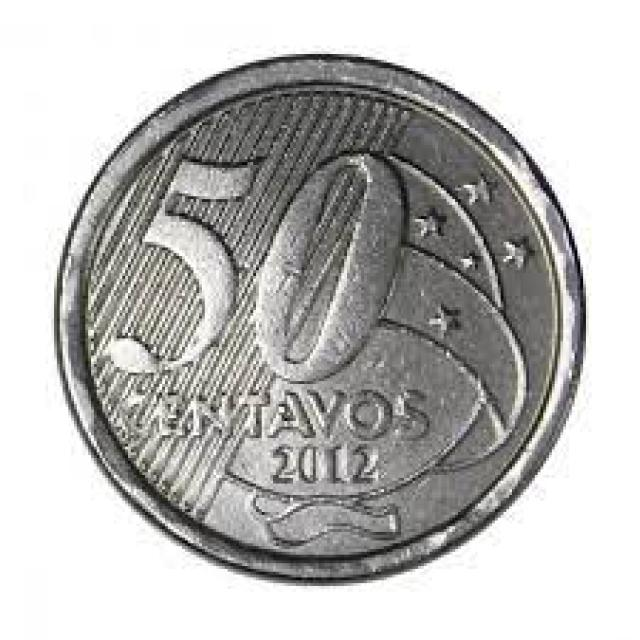50 cent: (52, 53, 586, 590)
